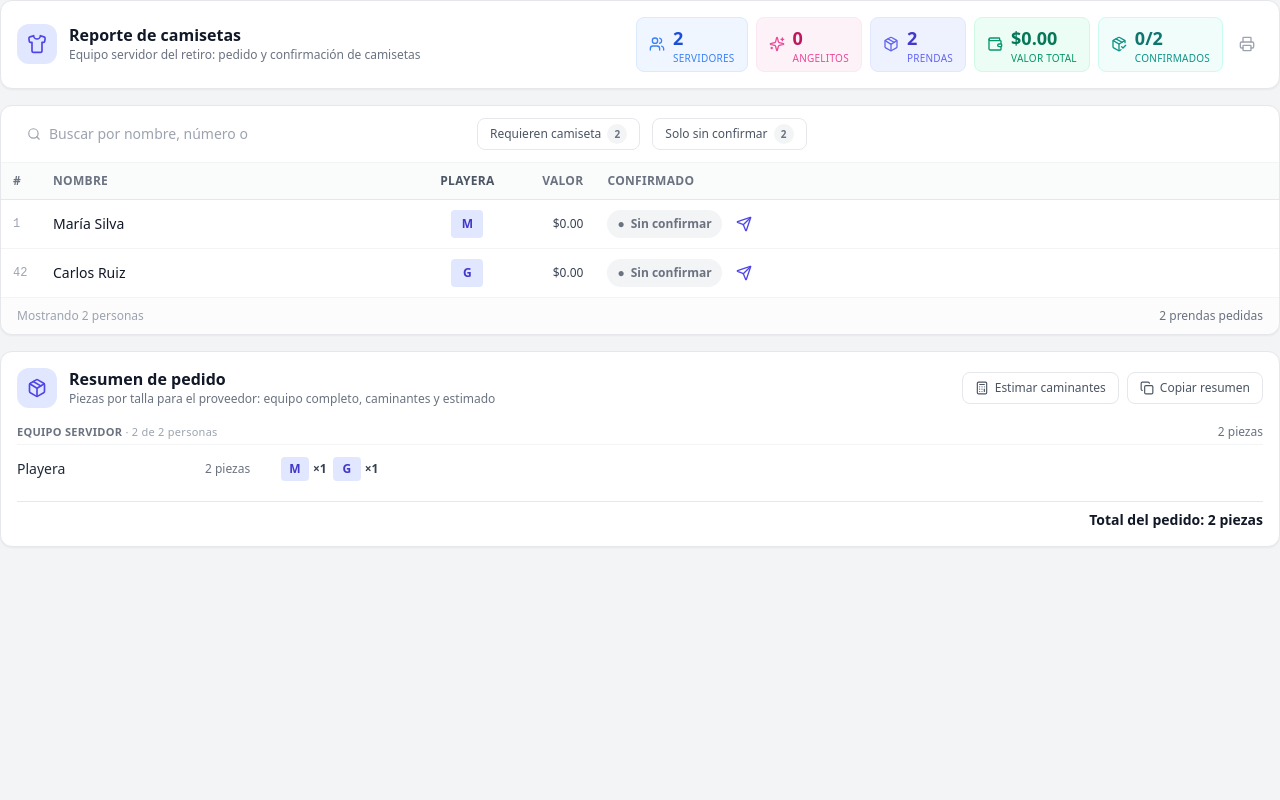
ShirtsReportView › búsqueda › limpia el query al hacer click en el botón X
In the field with placeholder "Buscar por nombre, número o talla...": (150, 134) [17,118,283,150], type "zzznoexiste"
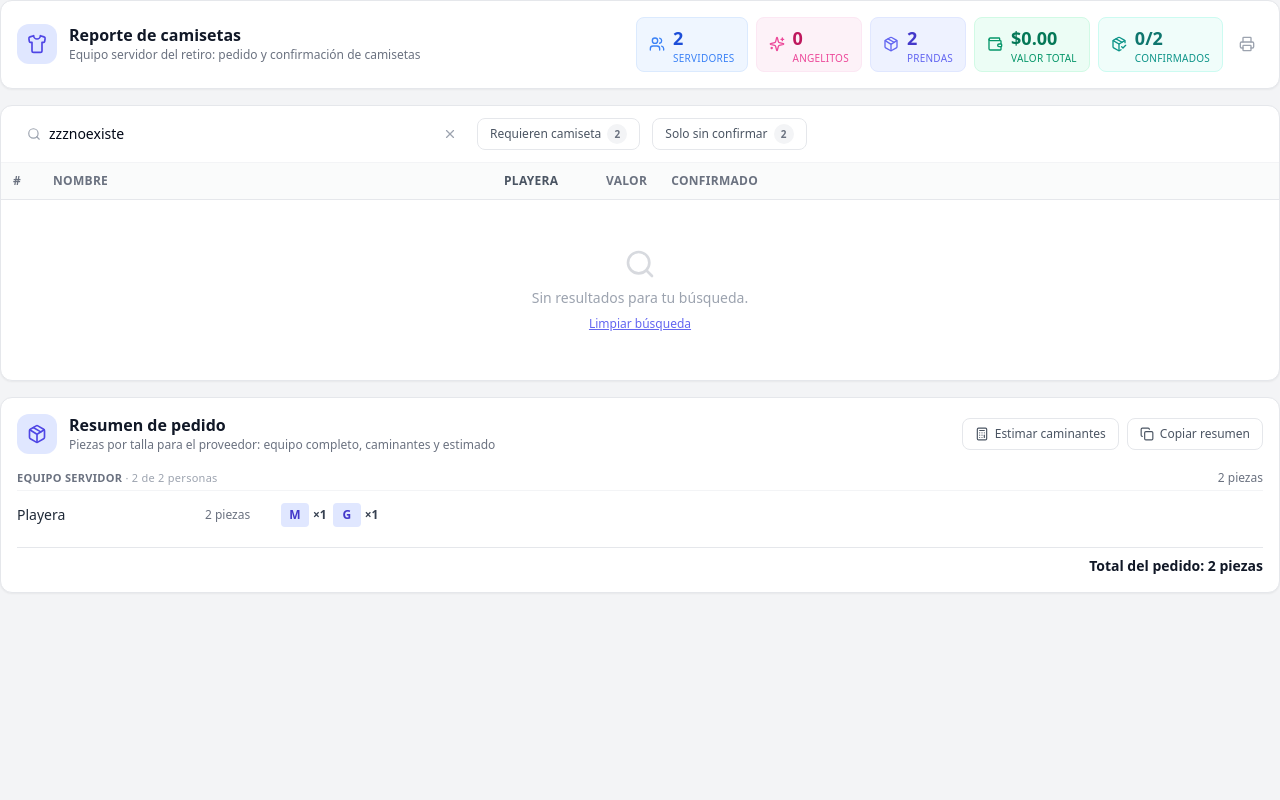
Click the 2nd button: (450, 134) [443,126,457,140]
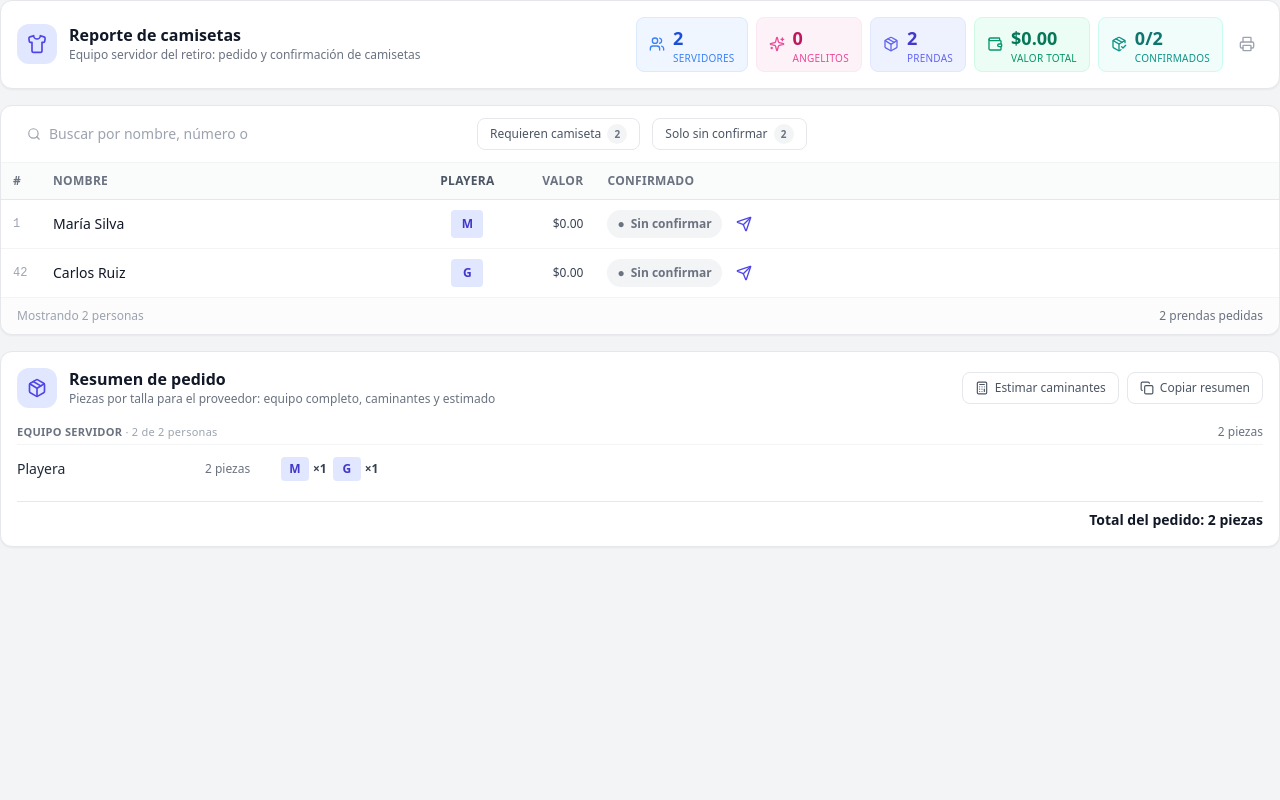
Check: the text "María" is shown, box [53,214,124,232]
Check: the text "Carlos" is shown, box [53,262,126,282]
